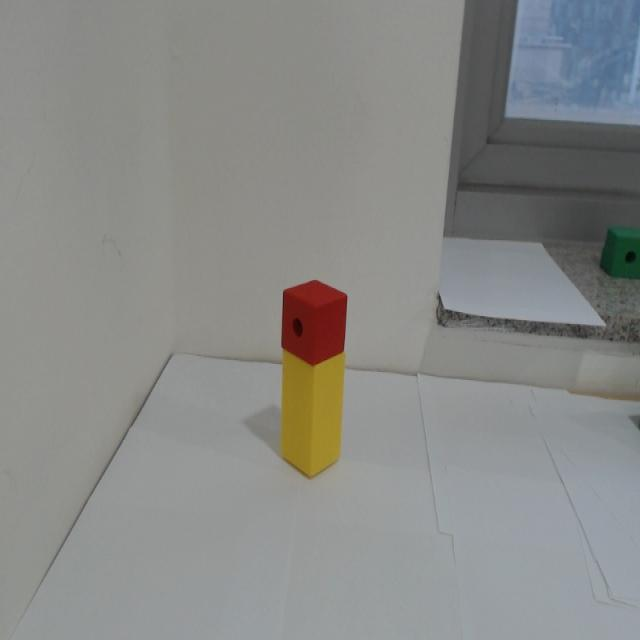cube: (278, 276, 349, 368)
